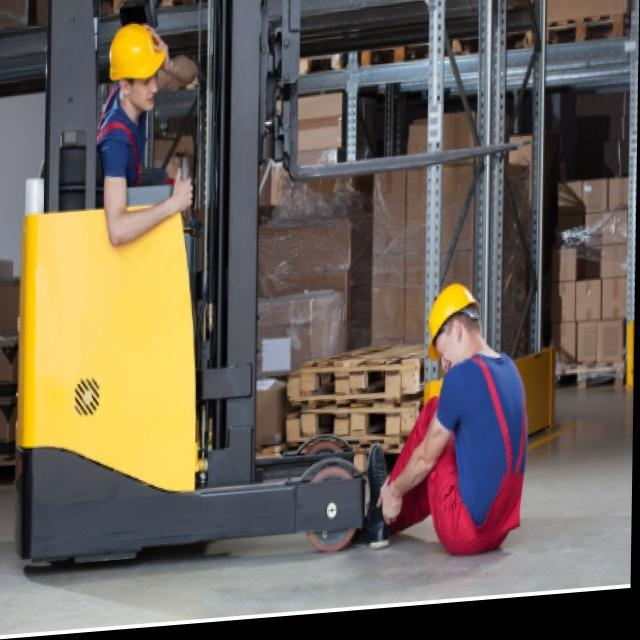helmet: (106, 16, 171, 119), (422, 278, 486, 370)
